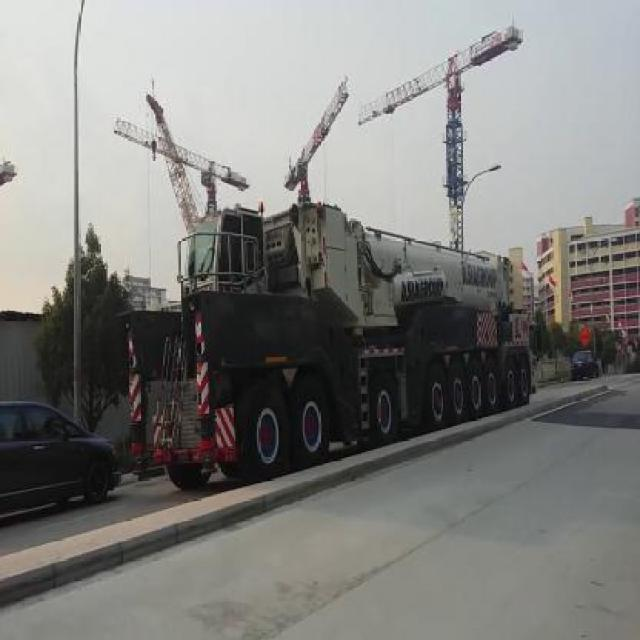Mobile Crane: (138, 208, 531, 480)
